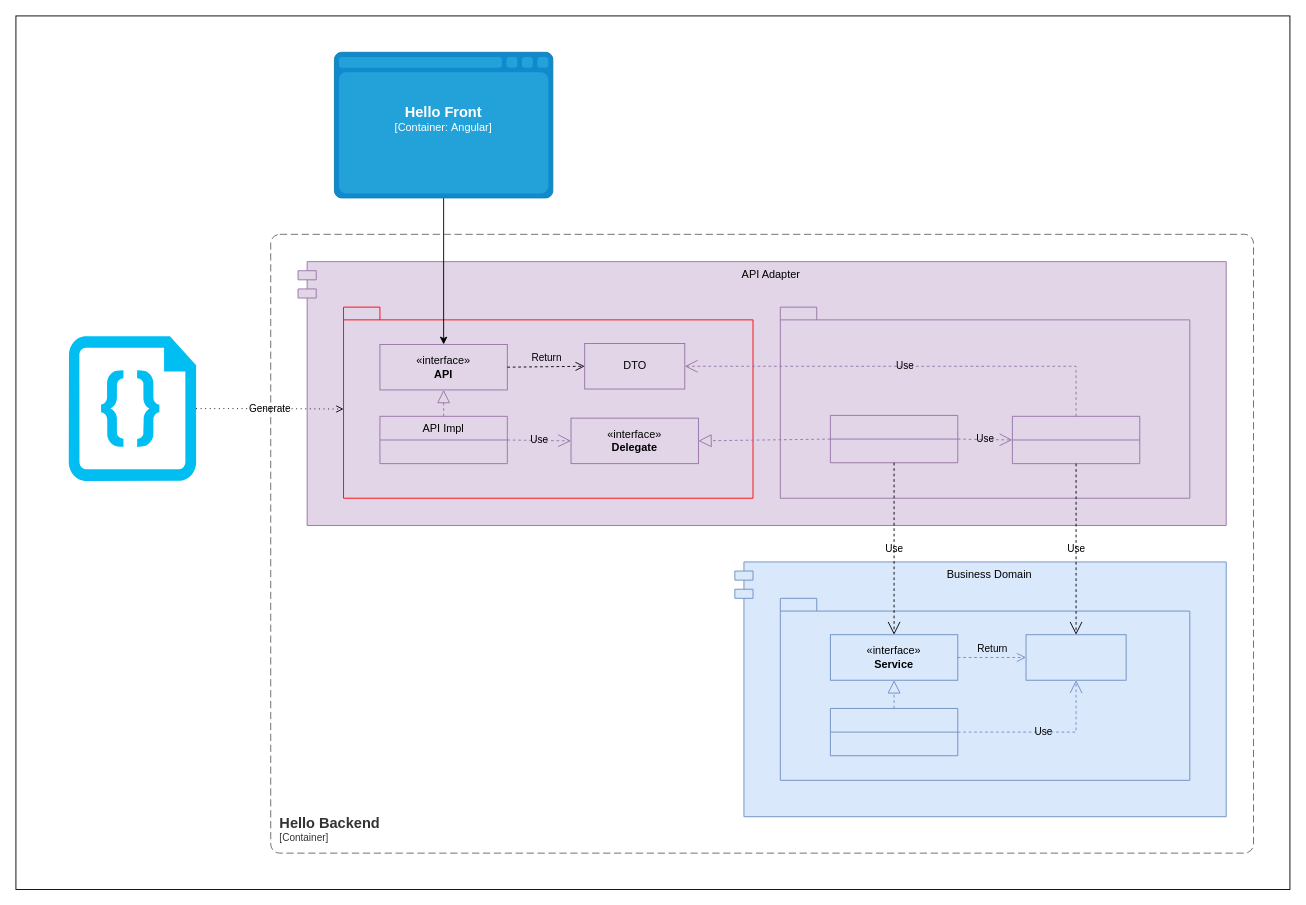
The diagram is 1306 pixels wide and 905 high, and some of its shapes have lost their labels. The shapes that lost their labels are listed below. From the top down, each one's centre as x and y in pixels, then its label:
pixel 132 408: OpenApi Définition
pixel 893 439: Delegate Impl
pixel 1075 439: Mapper
pixel 1075 657: Objet Métier
pixel 893 732: Service Impl
